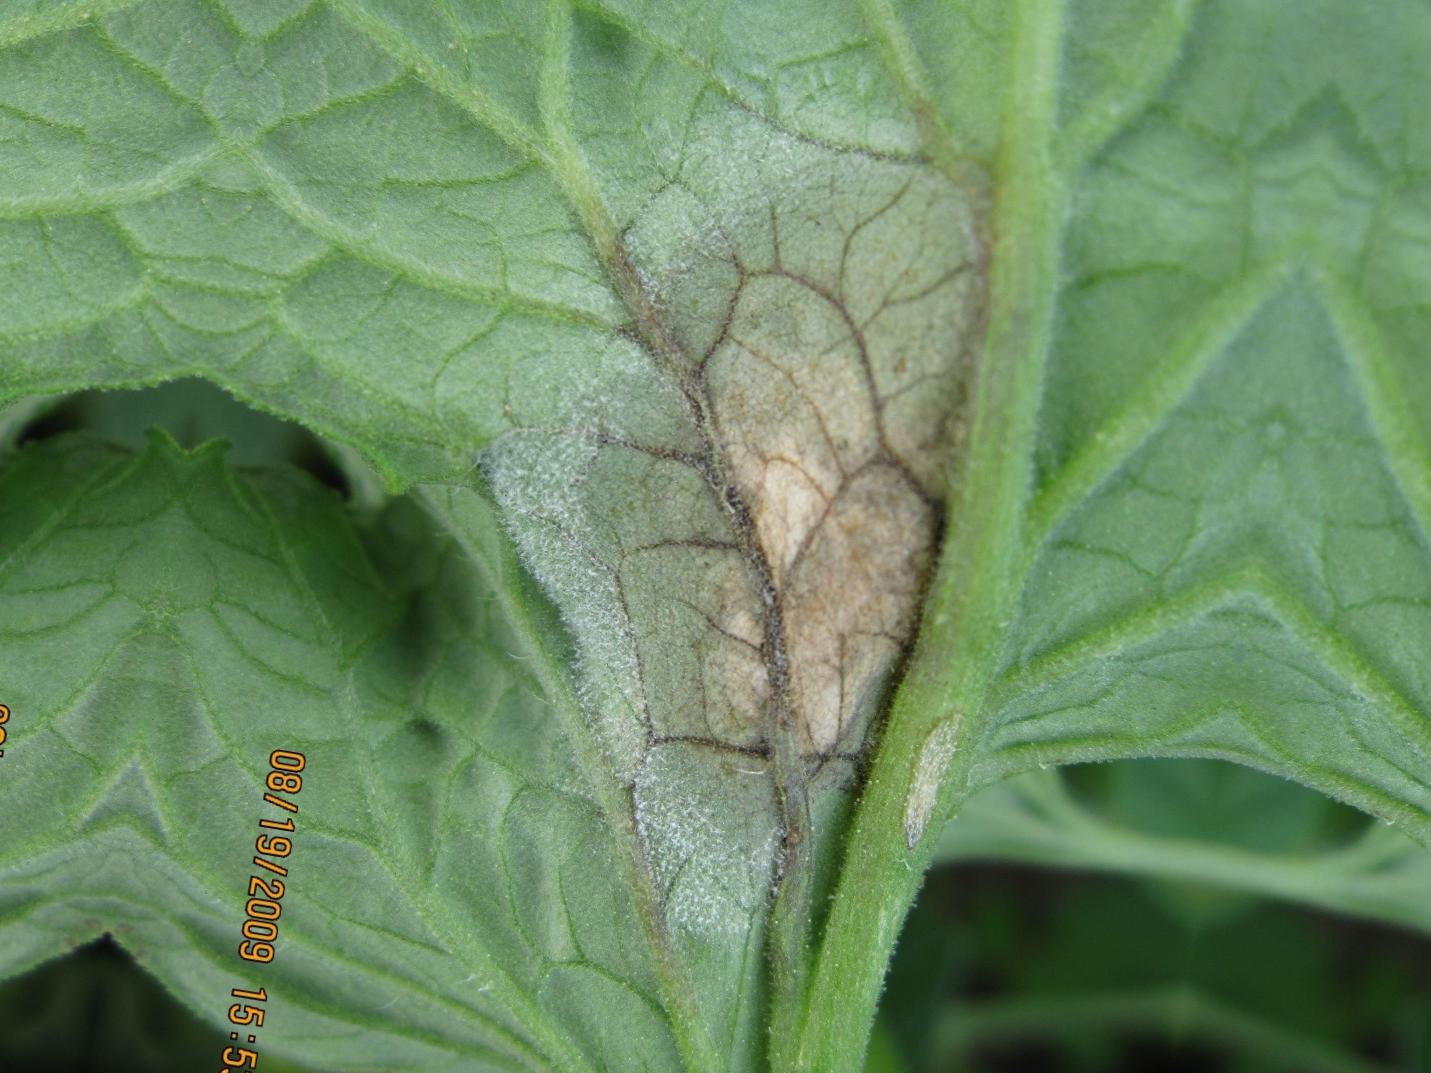Tomato leaf late blight: (73, 0, 1351, 1073)
